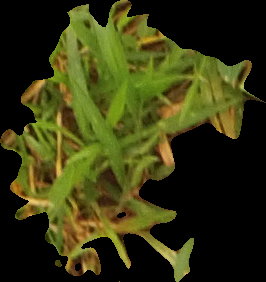grass: (1, 1, 264, 280)
